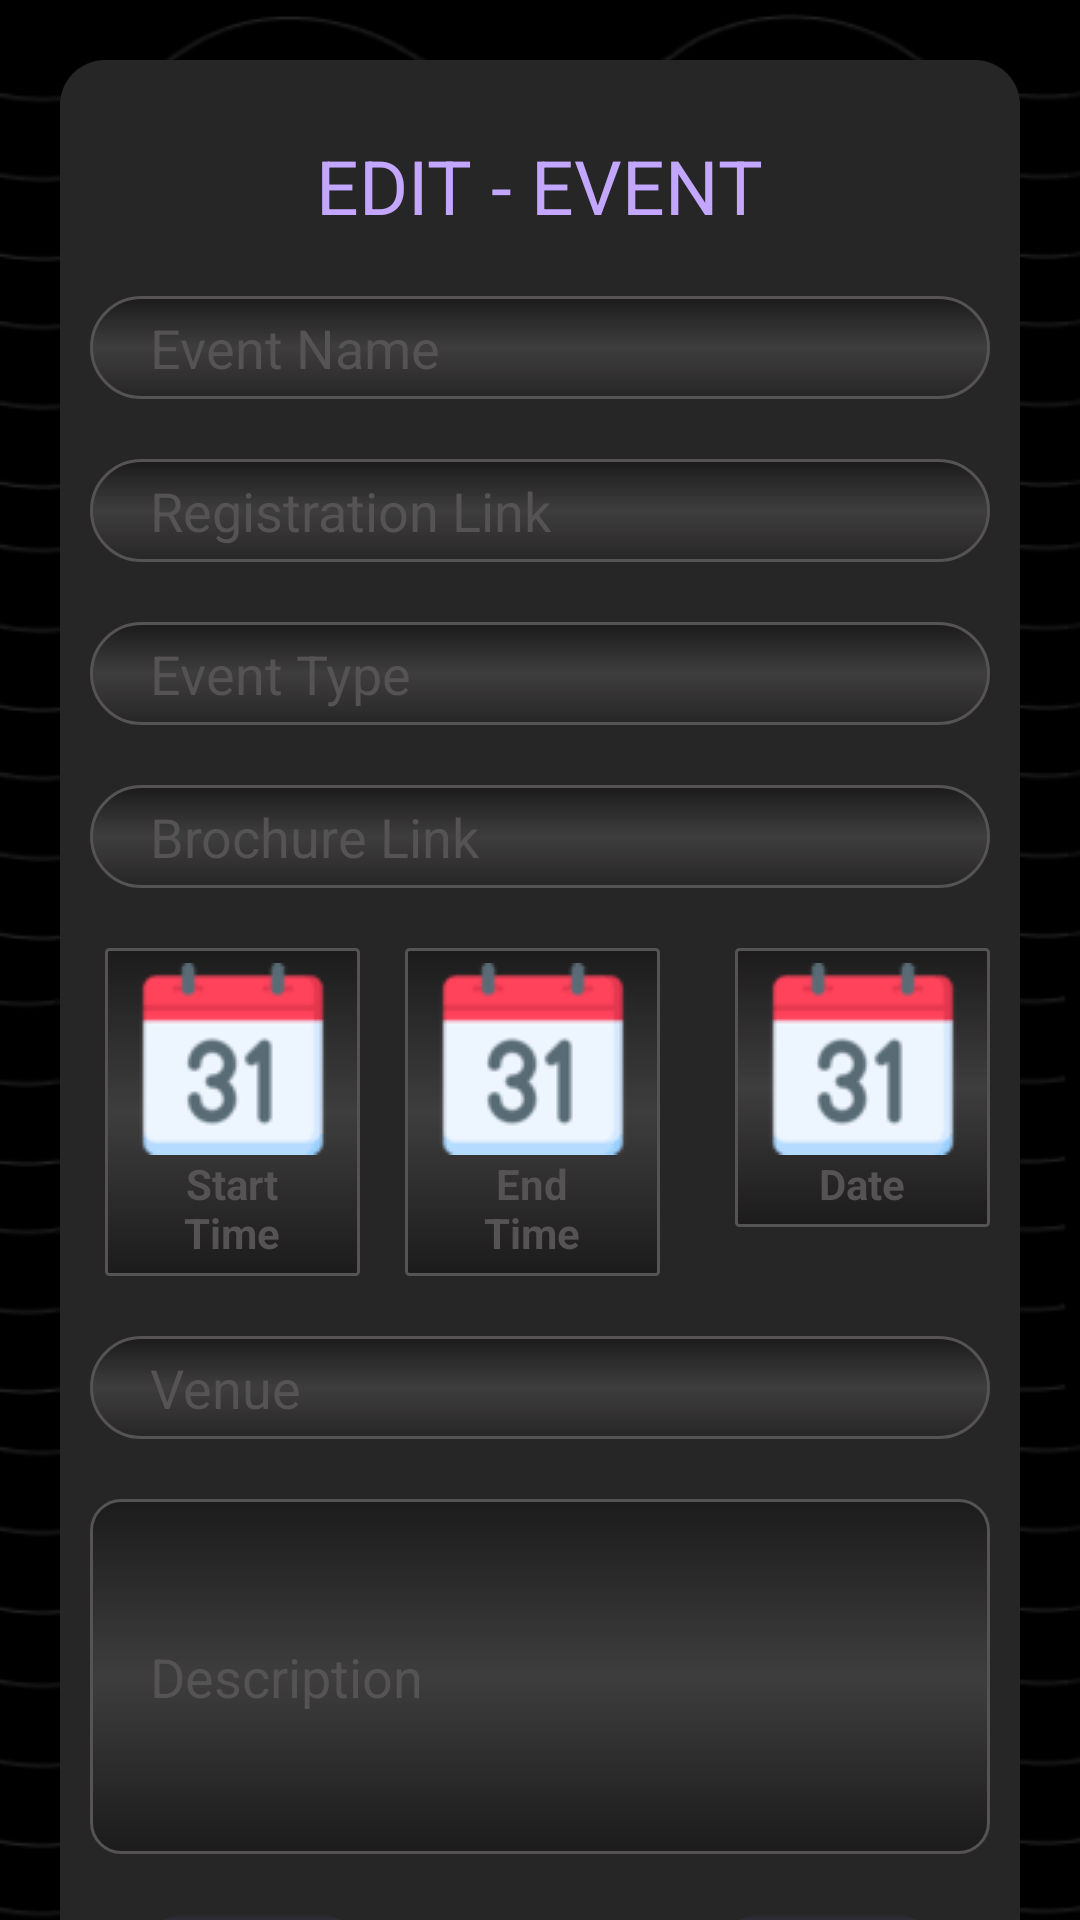

Where to tap for icons on this 1080 x 1920 app screen, as [x,y]:
calendar: [232,1112], [532,1112], [862,1087]
